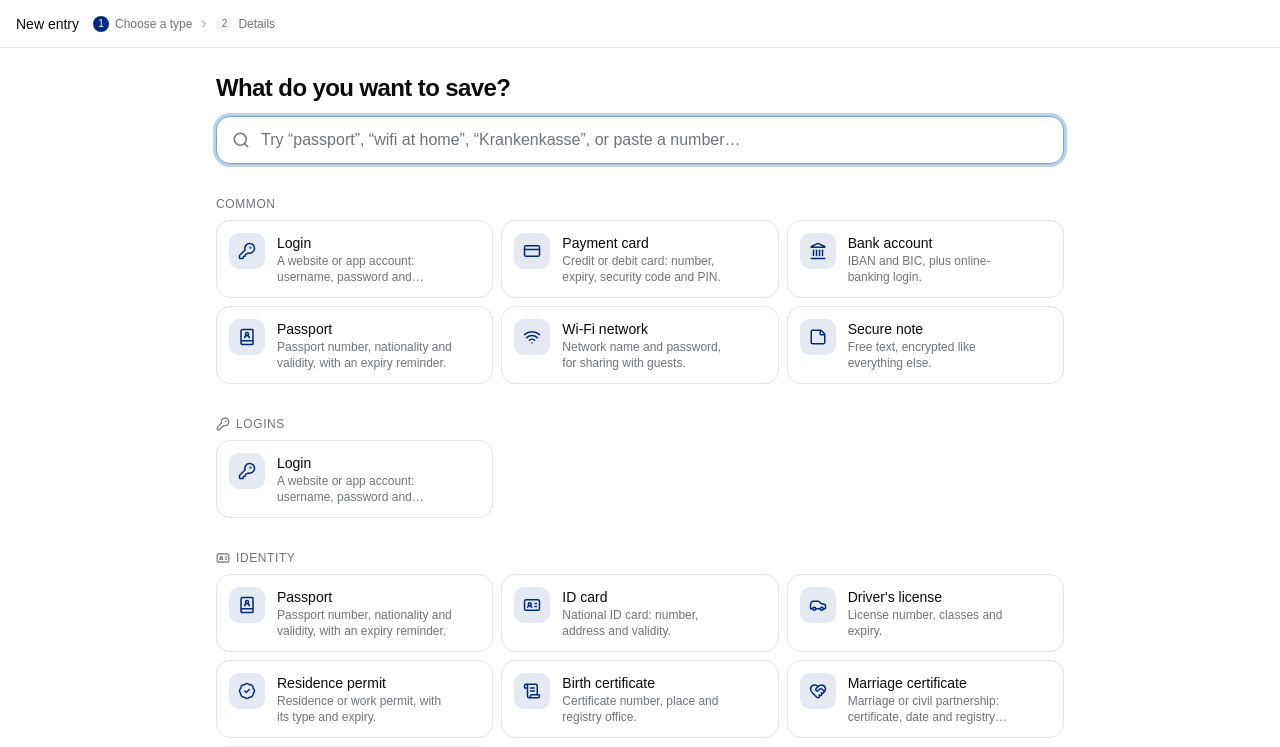
Test: new-entry wizard › narrows the catalogue by name, description and keywords
The image size is (1280, 747).
Type "seed" into the field named "What do you want to save?".
click(640, 140); type("seed")  # box [216, 116, 1064, 164]
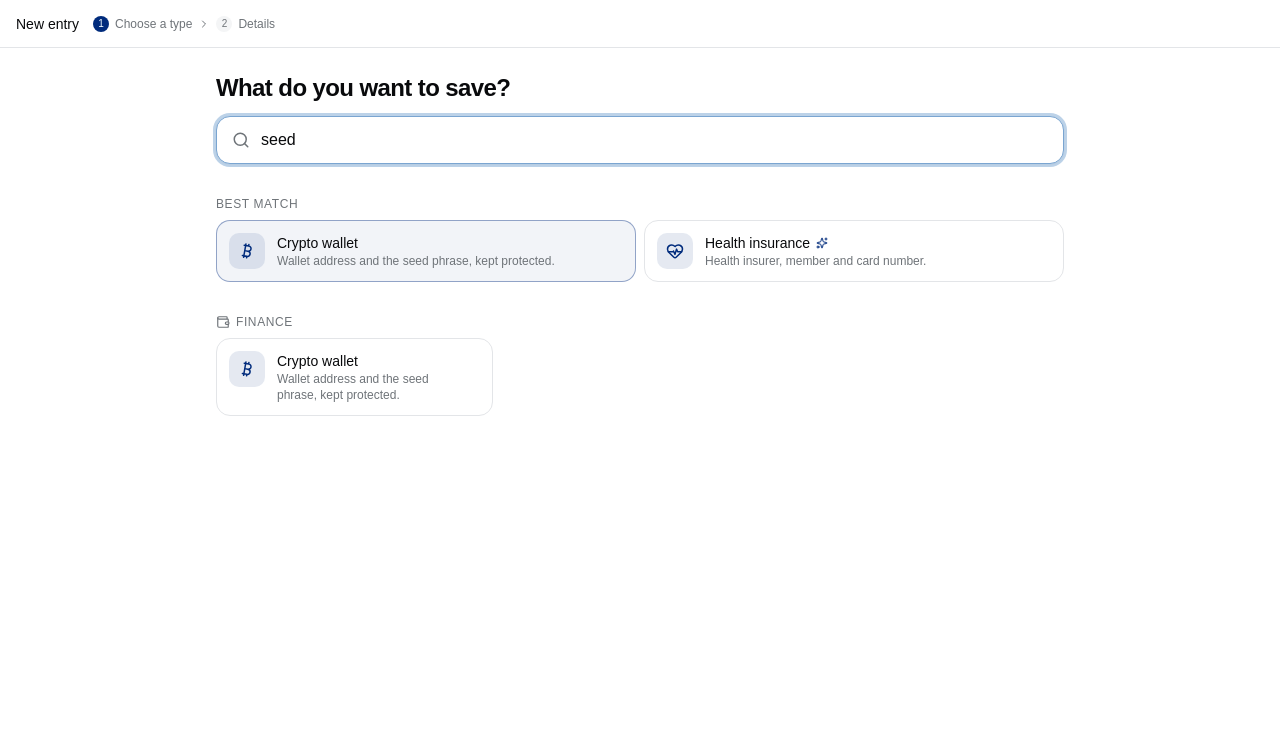
Check: no buttons "Wi-Fi network" are shown
